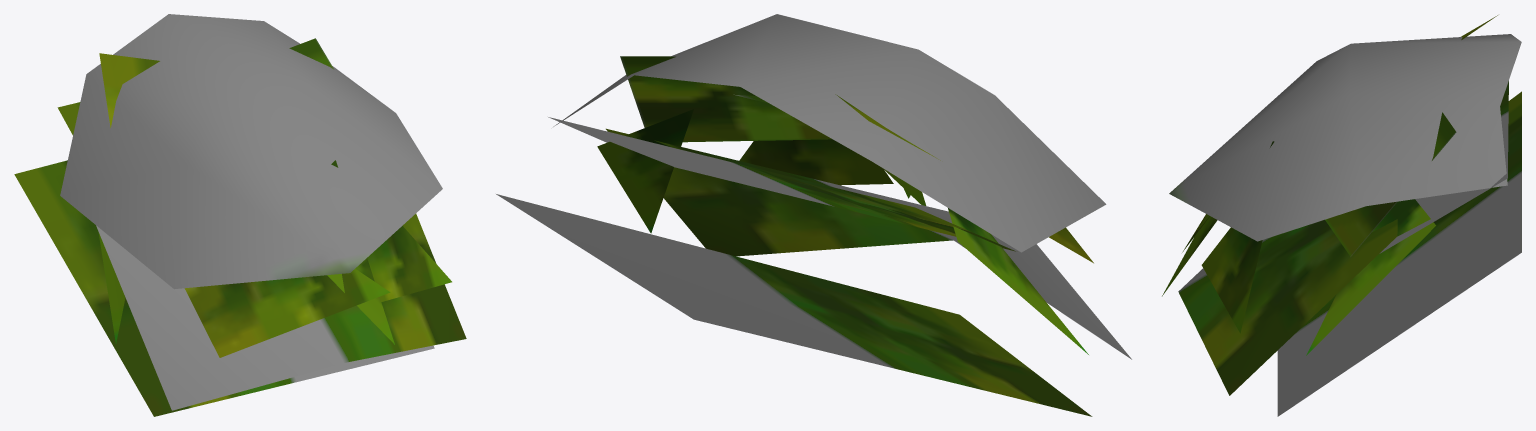
File: fg_bushA_2_s.dae
3 renders of one model, left to right at view 1: azimuth 30°, elevation 25°; view 2: azimuth 150°, elevation 25°; view 3: azimuth 270°, elevation 25°, orthographic. The views are drawn at different scales.
Visible parts, largest first — view 1: fg_bushA_2_s; view 2: fg_bushA_2_s; view 3: fg_bushA_2_s.
Part boxes in pixels (x1,y1,x2,y2): fg_bushA_2_s: [14, 14, 466, 416]; fg_bushA_2_s: [496, 14, 1131, 416]; fg_bushA_2_s: [1162, 15, 1521, 416].
Bounding box in the file's own units: 42.31 × 35.32 × 38.65.
Materials: 1 (1 with a texture image).
